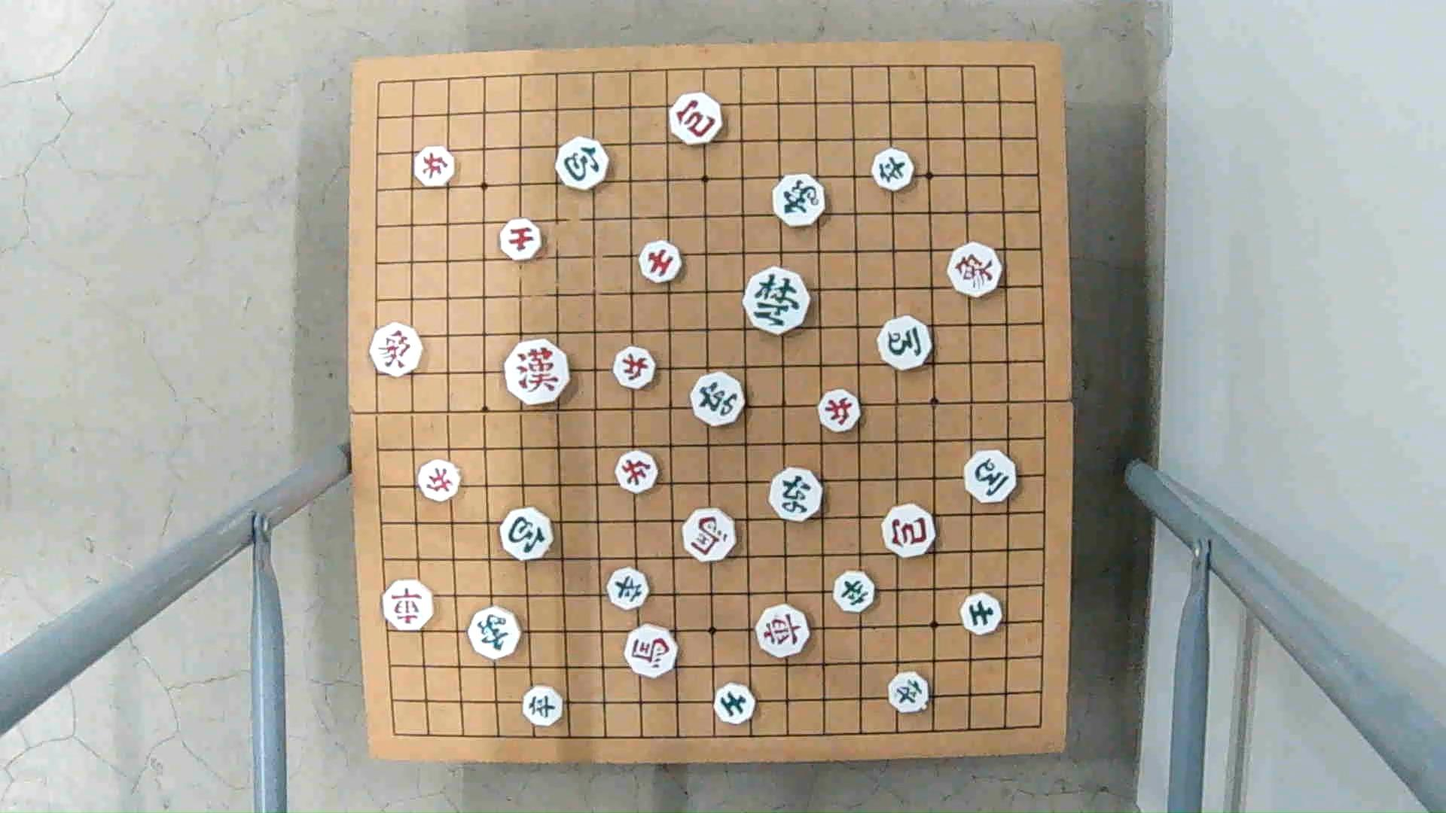cha_green: (689, 374, 743, 423), (772, 471, 822, 519)
cha_red: (754, 607, 811, 656), (384, 580, 433, 628)
jol_green: (886, 672, 932, 711), (870, 151, 916, 190), (832, 572, 877, 611), (606, 568, 651, 607), (523, 686, 564, 724)
jol_red: (815, 391, 863, 430), (614, 452, 660, 492), (613, 347, 657, 388), (410, 147, 456, 186), (416, 463, 463, 500)
ma_green: (877, 318, 934, 367), (962, 452, 1018, 501)
ma_red: (679, 509, 738, 559), (626, 628, 681, 677)
po_green: (497, 510, 555, 561), (556, 139, 612, 187)
po_red: (879, 507, 936, 556), (667, 93, 724, 142)
sa_green: (962, 592, 1001, 635), (710, 687, 755, 724)
sa_red: (638, 242, 682, 283), (500, 220, 541, 257)
sang_green: (773, 177, 828, 227), (471, 608, 520, 656)
sang_red: (370, 322, 422, 375), (950, 244, 1000, 295)
wang_green: (742, 269, 812, 332)
wang_red: (503, 343, 573, 403)
